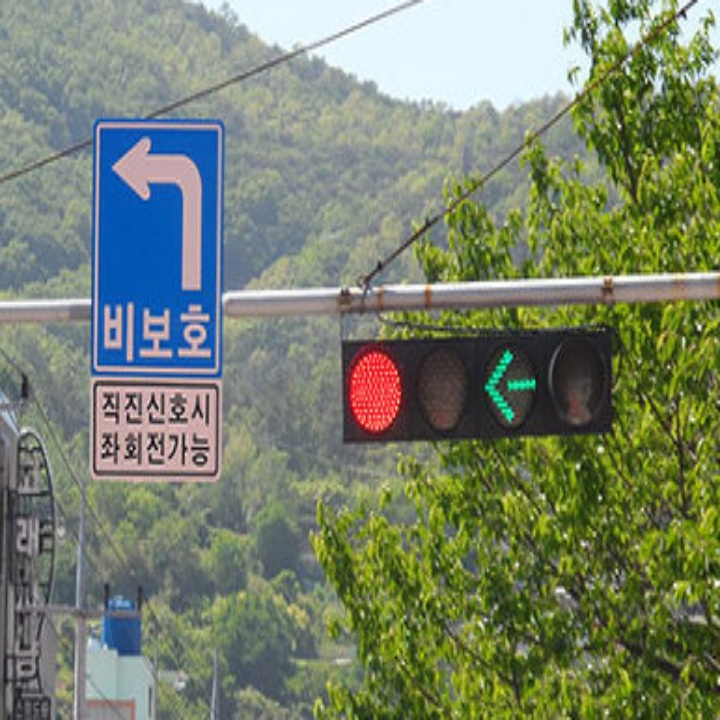left: (103, 131, 214, 296)
